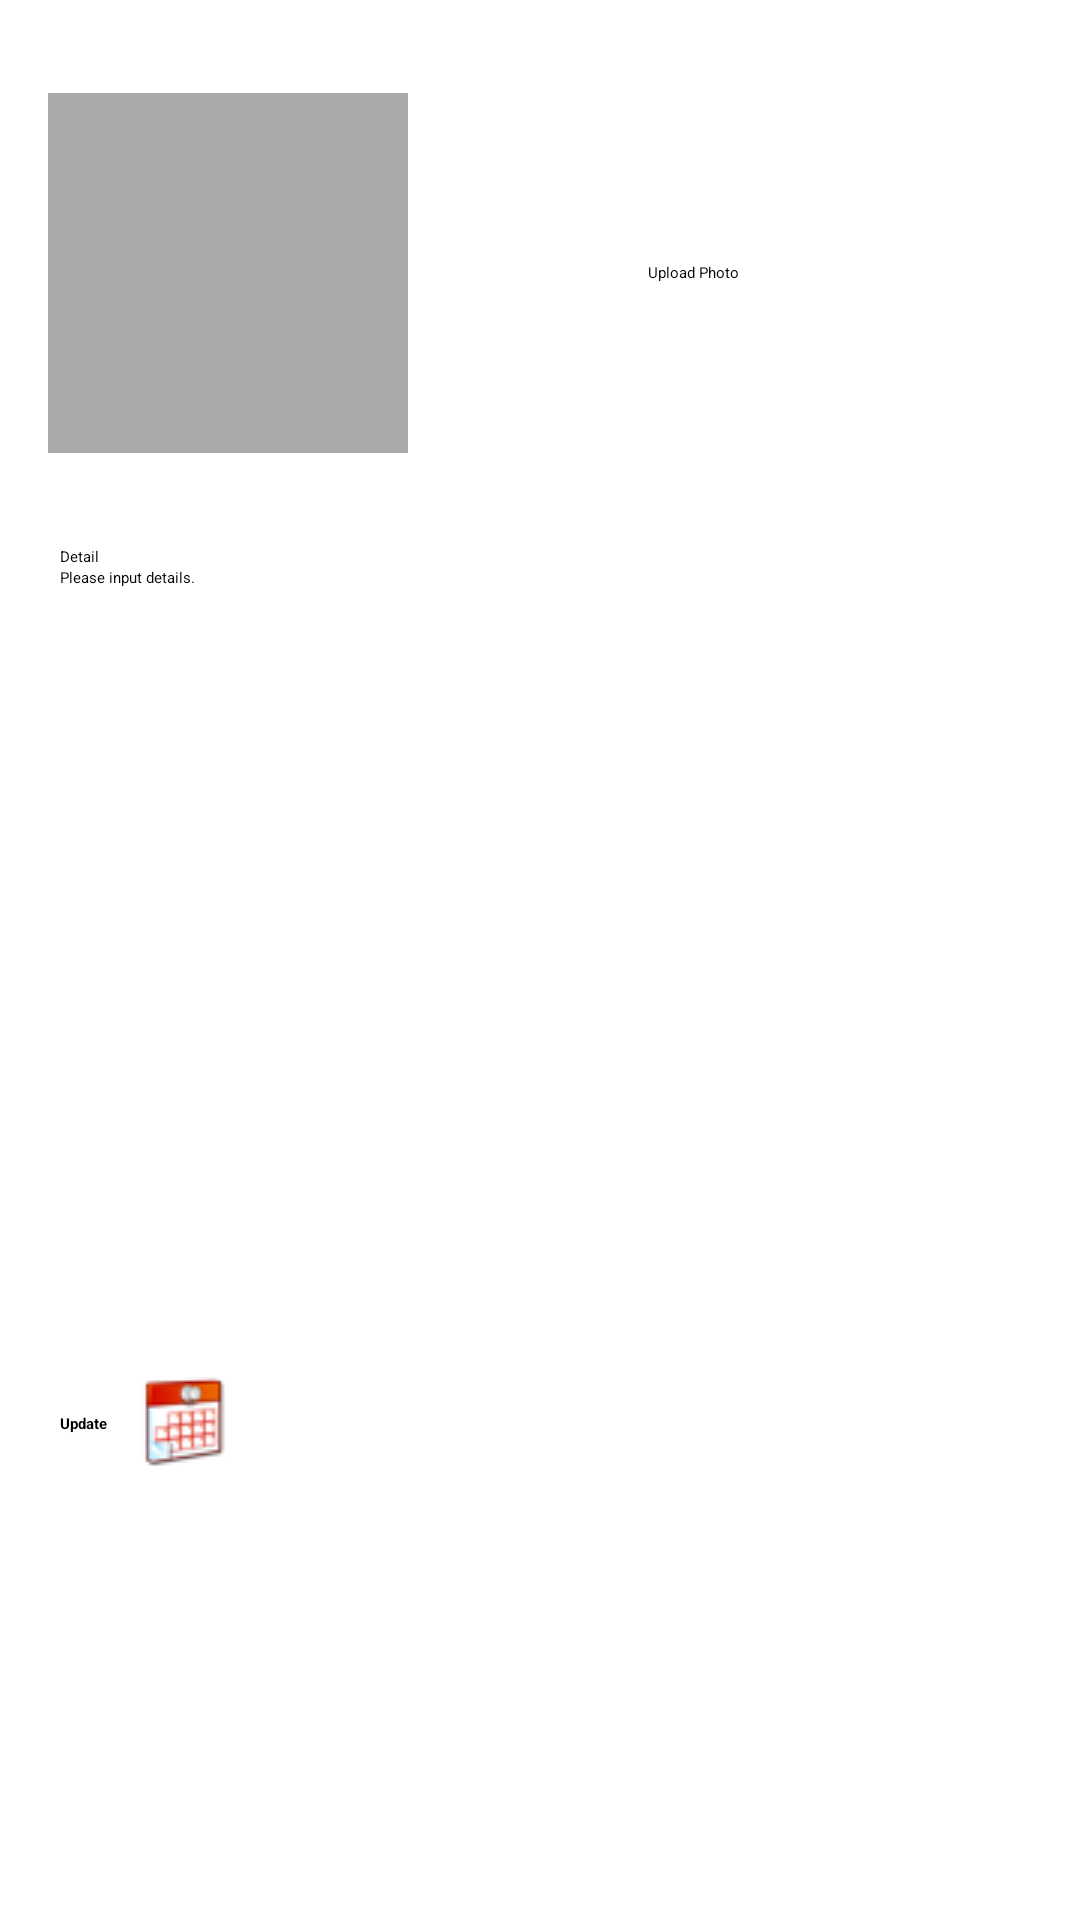

Where icons sit on this 1080x1920 app screen, as {"left": x1, "top": y1, "right": x2, "bottom": y2}:
calendar: {"left": 145, "top": 1378, "right": 224, "bottom": 1466}
